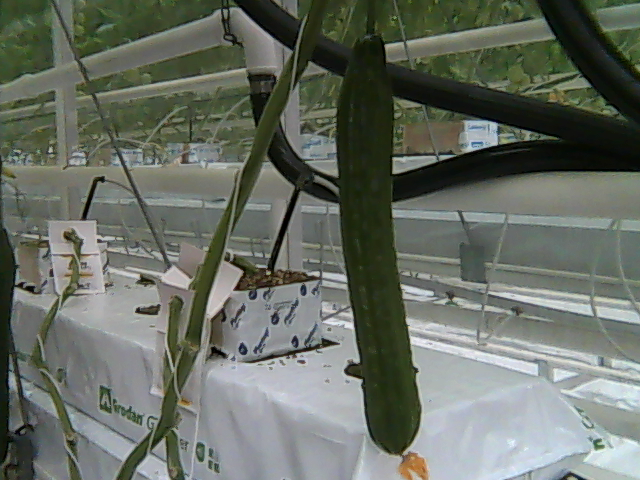concombre: (335, 19, 426, 480)
